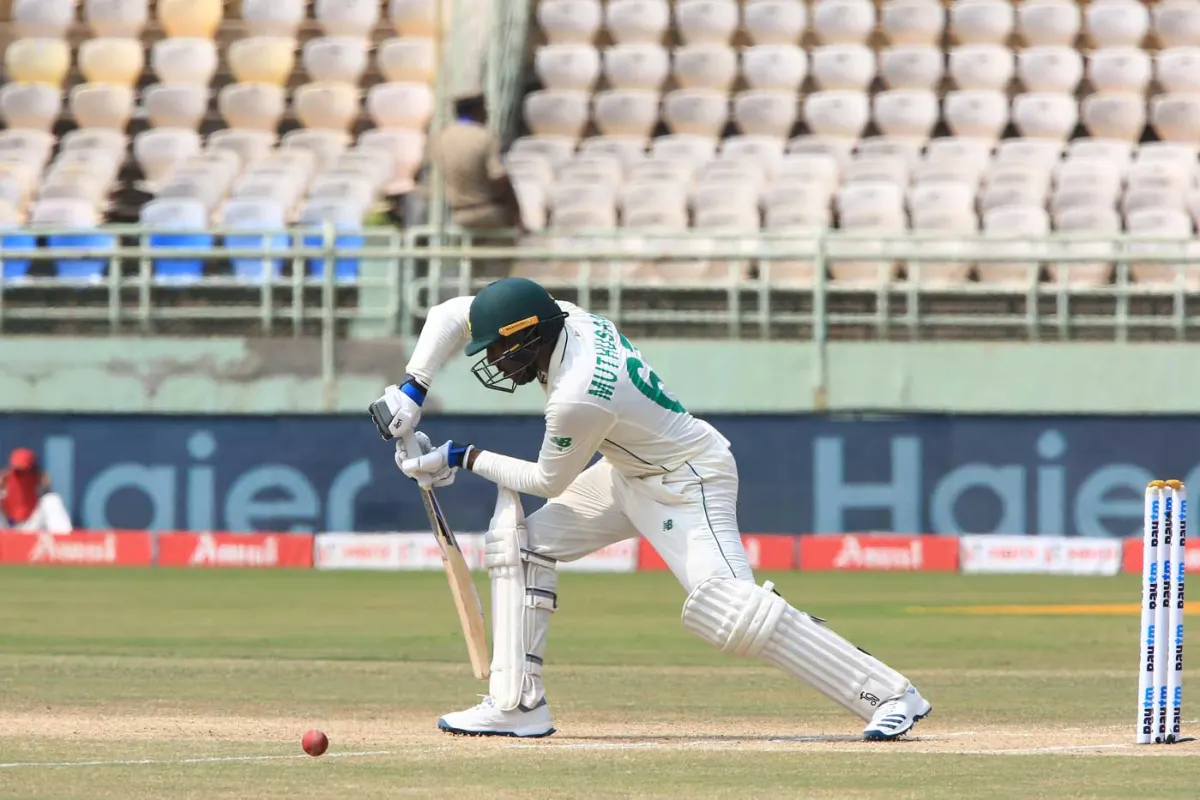Defence: (171, 83, 989, 800)
